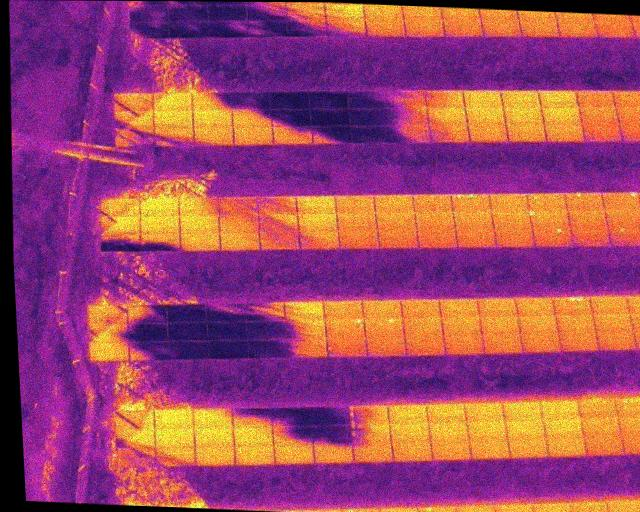Diode: (447, 190, 495, 216), (548, 293, 595, 318), (614, 393, 640, 422)
Hotspot: (359, 316, 408, 341)
Shadow: (202, 316, 249, 345), (224, 88, 275, 114), (306, 122, 354, 148), (162, 319, 207, 346), (306, 105, 350, 132)
